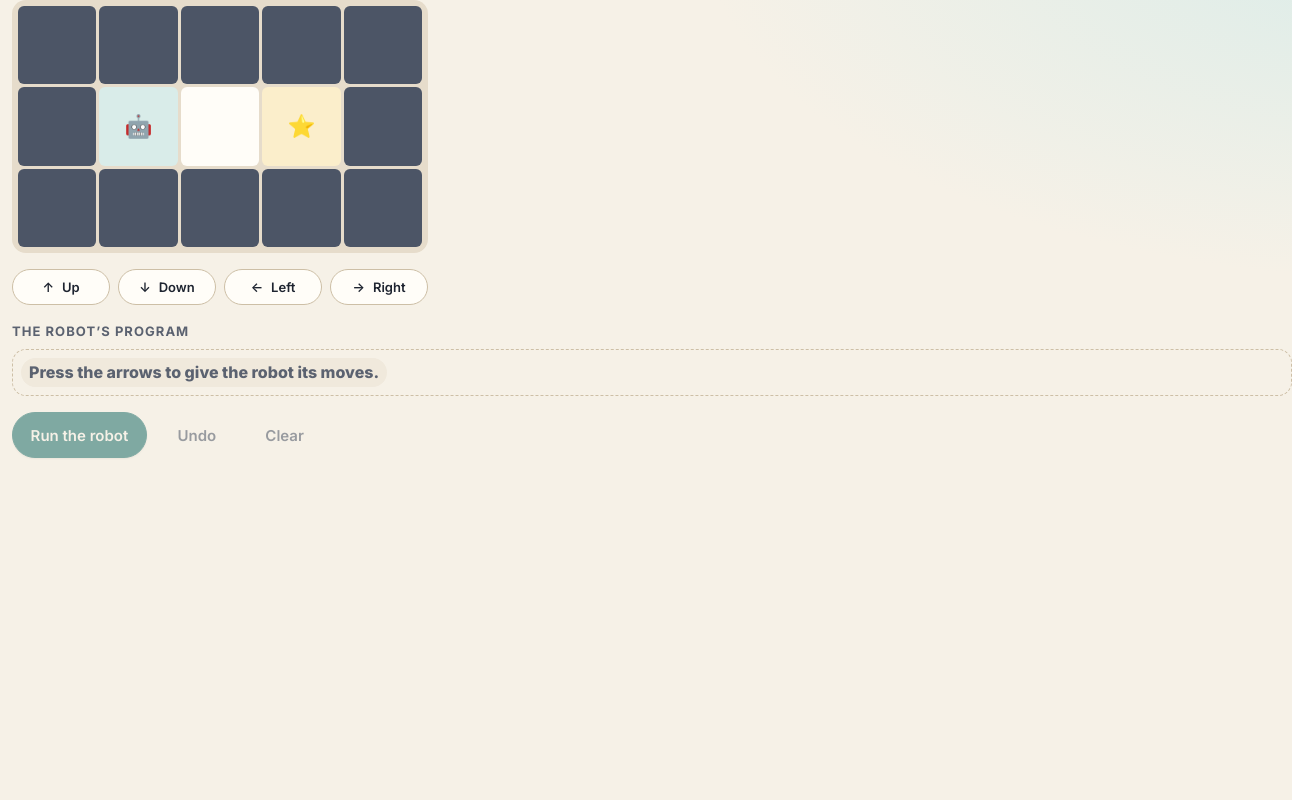
Test case: game screens › the maze sends the planned moves, and draws the frames the program prints
Expected: the picture named "The maze. The robot is in column 2, row 2." is shown, [12,0,428,253]
What coordinates should you click on to do the following:
click the button "→ Right"
I would click on:
 (379, 287)
Its box is [330,269,428,305].
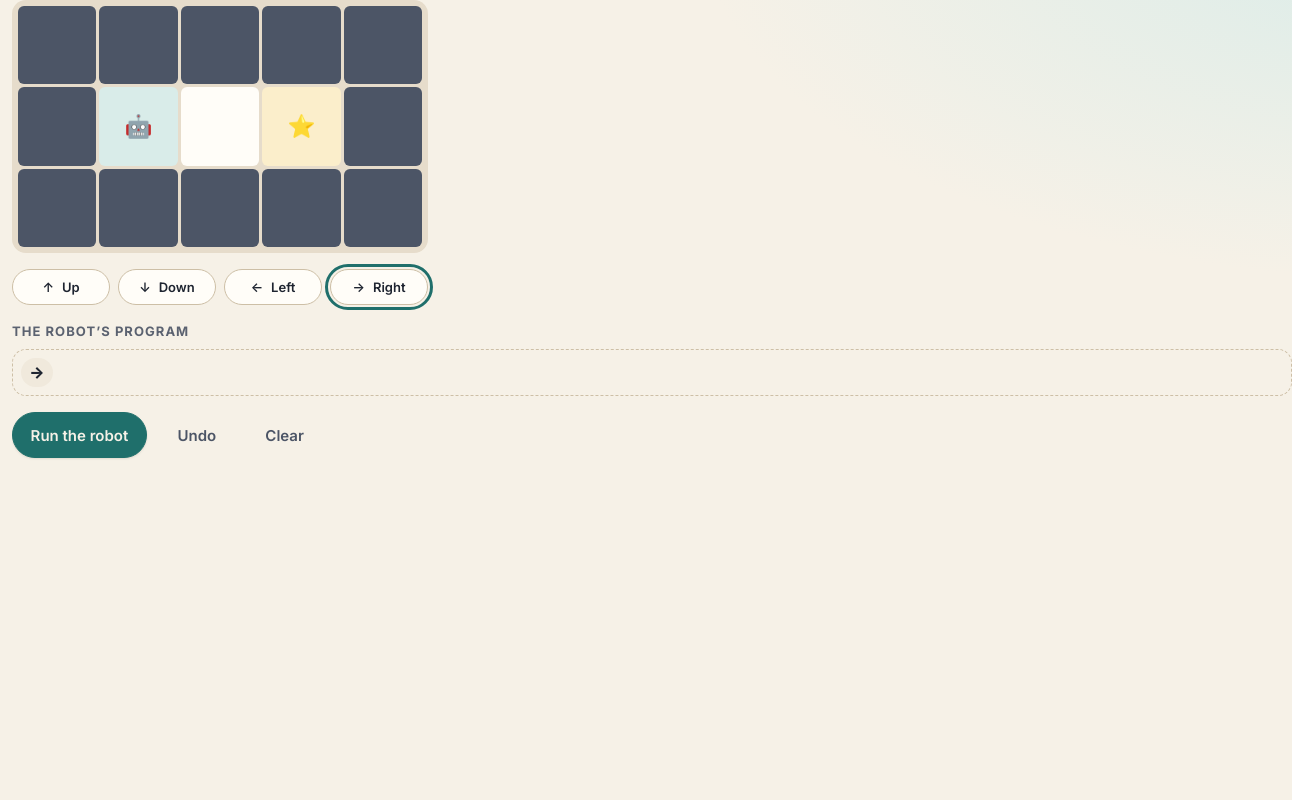
What coordinates should you click on to do the following:
click the button "→ Right"
I would click on:
 (379, 287)
Its box is [330,269,428,305].
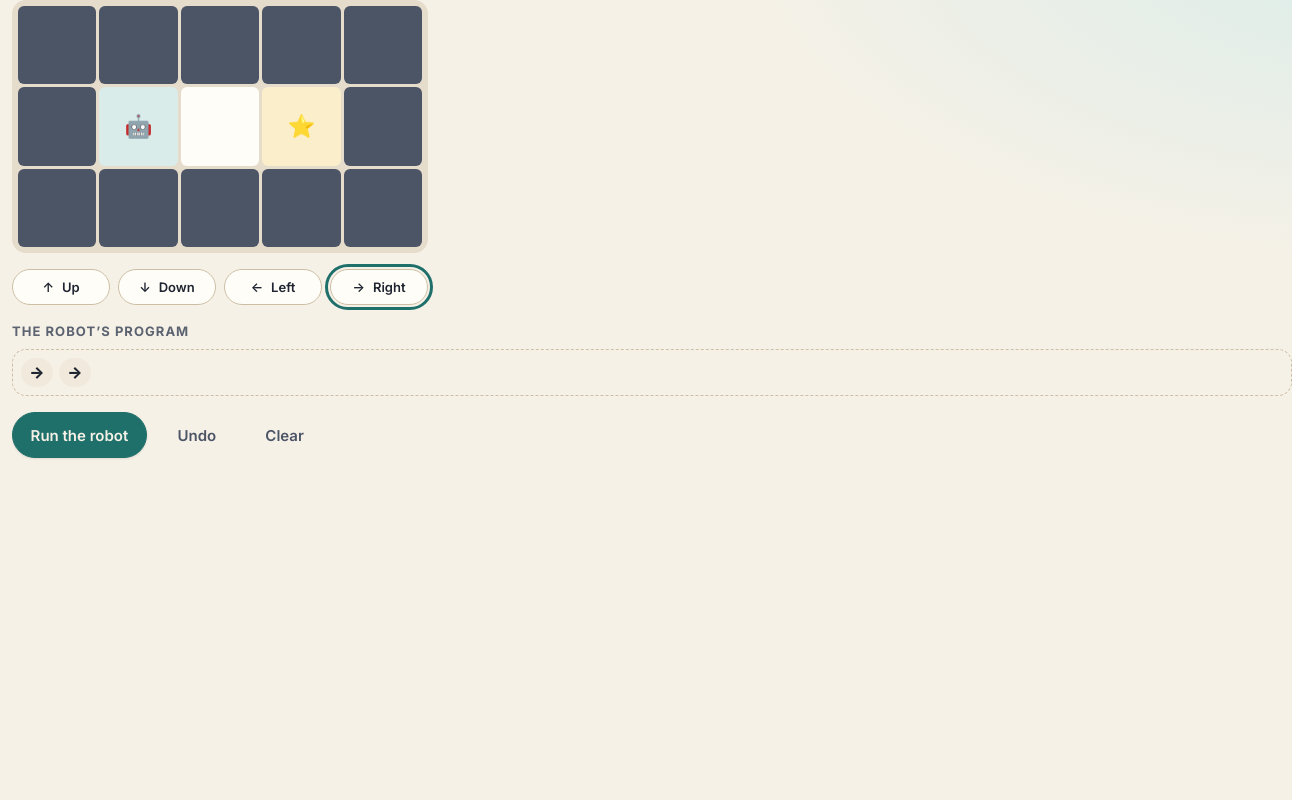
Expected: the number of list items is 2, [21,358,53,387]; [59,358,91,387]
What coordinates should you click on to do the following:
click the button "Run the robot"
I would click on:
 (79, 435)
Its box is [12,412,147,458].
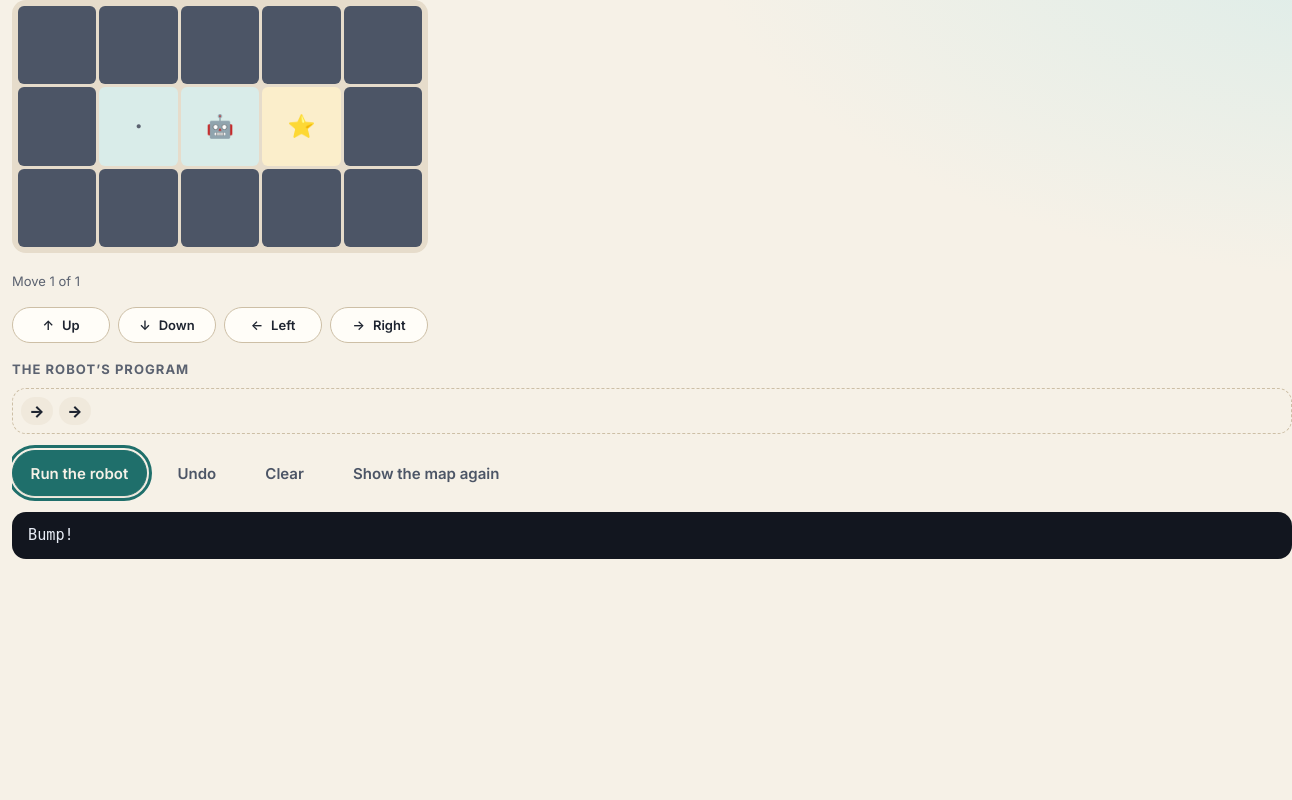
Expected: the picture named "The maze. The robot is in column 3, row 2." is shown, [12,0,428,253]
Expected: the text "Bump!" is shown, [28,526,74,544]
